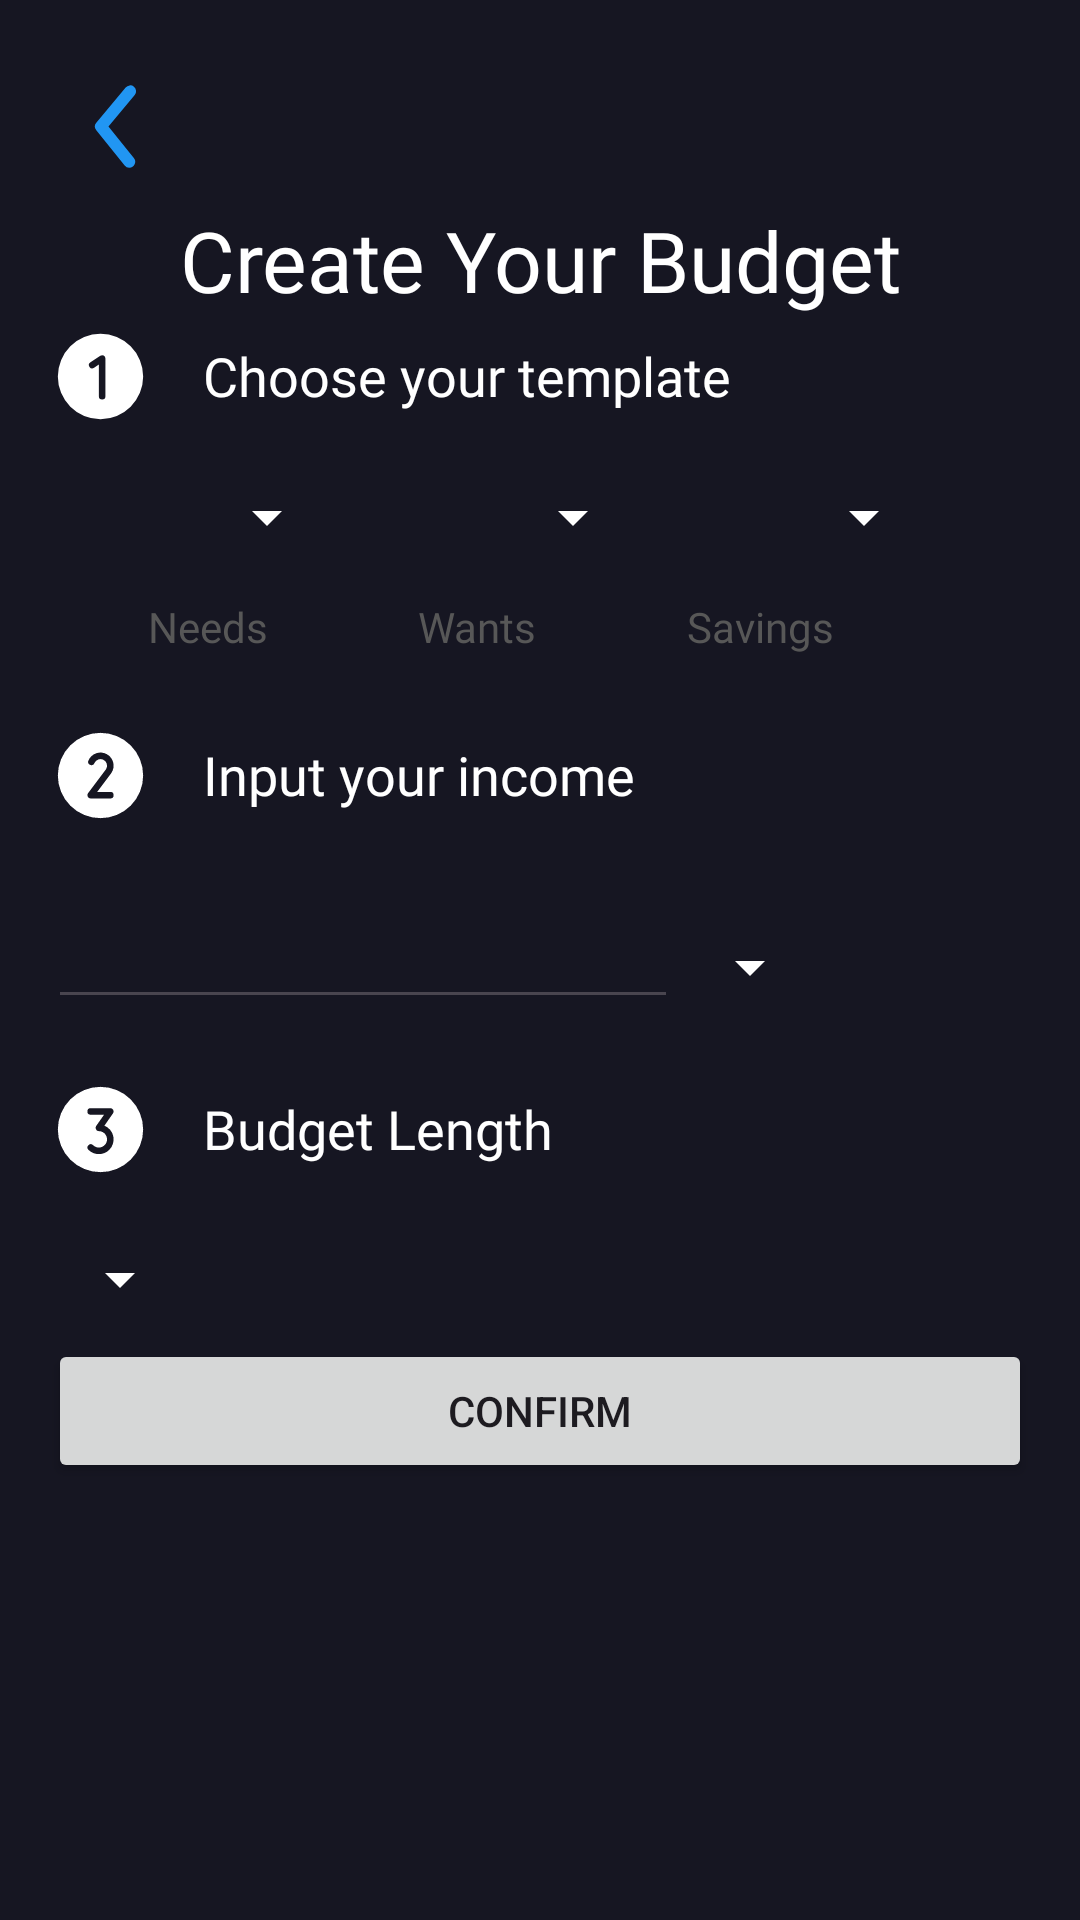

Icon bounding boxes for this 1080 × 1920 phone screenshot, format (x1, y1, x2, y2):
arrow back: (94, 85, 136, 168)
number circle one: (57, 333, 144, 420)
number circle three: (57, 1086, 144, 1173)
number circle two: (57, 732, 144, 819)
